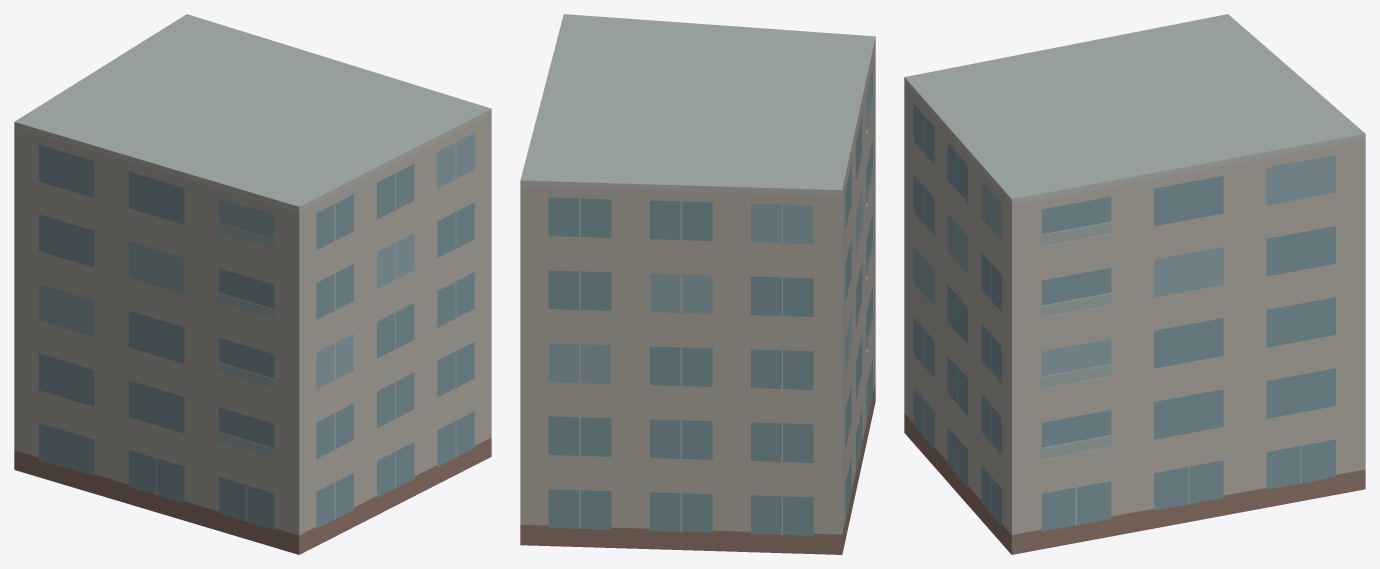
The model's file is residential-06f0f944-147a-4f6d-9bf0-f9bef5a8b981.glb.
3 views of the same model, side by side, from view 1: azimuth 30°, elevation 25°; view 2: azimuth 150°, elevation 25°; view 3: azimuth 270°, elevation 25° (orthographic). The views are drawn at different scales.
Parts seen in each view (by area): view 1: residential-06f0f944-147a-4f6d-9bf0-f9bef5a8b981.tmp; view 2: residential-06f0f944-147a-4f6d-9bf0-f9bef5a8b981.tmp; view 3: residential-06f0f944-147a-4f6d-9bf0-f9bef5a8b981.tmp.
Boxes of the visible parts, x1,y1,x2,y2 form: residential-06f0f944-147a-4f6d-9bf0-f9bef5a8b981.tmp: (14, 14, 491, 554); residential-06f0f944-147a-4f6d-9bf0-f9bef5a8b981.tmp: (520, 14, 875, 554); residential-06f0f944-147a-4f6d-9bf0-f9bef5a8b981.tmp: (904, 14, 1365, 554).
Size of the model in its own units: 17.05 by 15.25 by 17.93.
